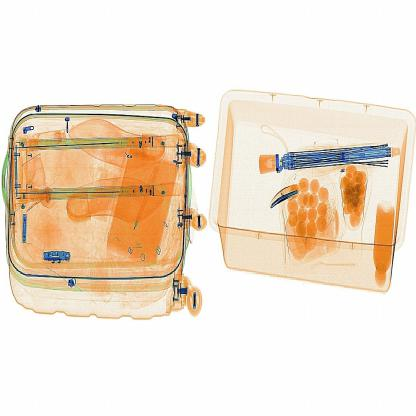pliers: (268, 180, 311, 216)
